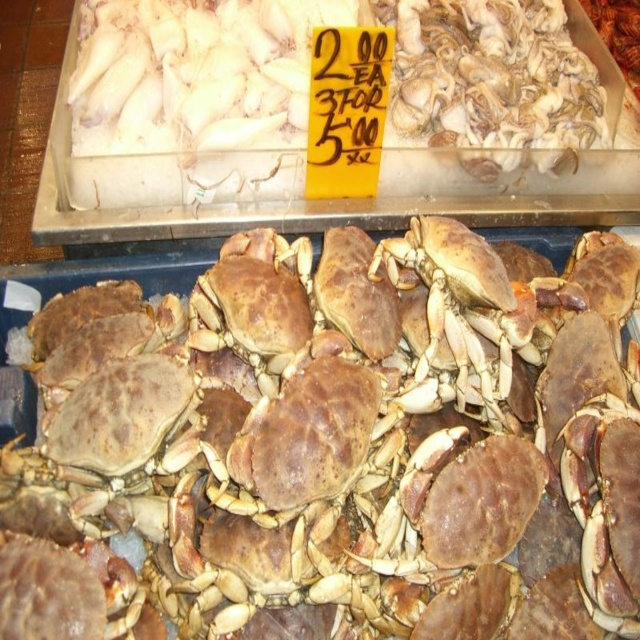Crab: (0, 215, 639, 639)
